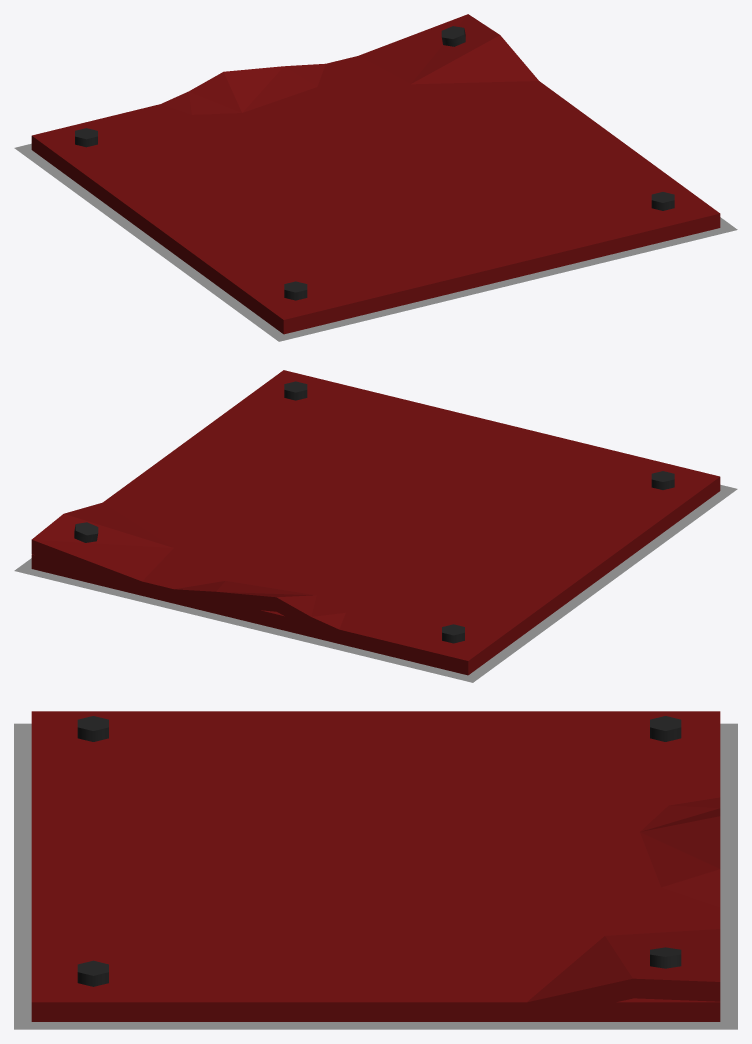
The model's file is fd_ground_tile.FBX.
The picture shows the model from 3 angles, top to bottom: view 1: azimuth 30°, elevation 25°; view 2: azimuth 150°, elevation 25°; view 3: azimuth 270°, elevation 25°; orthographic projection. The views are drawn at different scales.
Visible parts, largest first — view 1: Tile_01, Tile_03, Tile_05, Tile_04, Tile_02; view 2: Tile_03, Tile_01, Tile_04, Tile_05, Tile_02; view 3: Tile_03, Tile_01, Tile_05, Tile_04, Tile_02.
Part boxes in pixels (<box>): Tile_01: <box>16,14,736,341</box>; Tile_03: <box>14,56,737,341</box>; Tile_05: <box>32,60,674,340</box>; Tile_04: <box>33,59,673,340</box>; Tile_02: <box>31,136,720,339</box>; Tile_03: <box>16,382,719,682</box>; Tile_01: <box>16,370,725,681</box>; Tile_04: <box>159,371,735,660</box>; Tile_05: <box>14,370,737,682</box>; Tile_02: <box>227,371,658,681</box>; Tile_03: <box>14,711,737,1029</box>; Tile_01: <box>14,711,737,1029</box>; Tile_05: <box>14,712,737,1029</box>; Tile_04: <box>14,711,737,1025</box>; Tile_02: <box>16,713,737,1029</box>.
Size of the model in its own units: 100 by 7.5 by 100.
